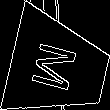M_E: (31, 39, 86, 96)
